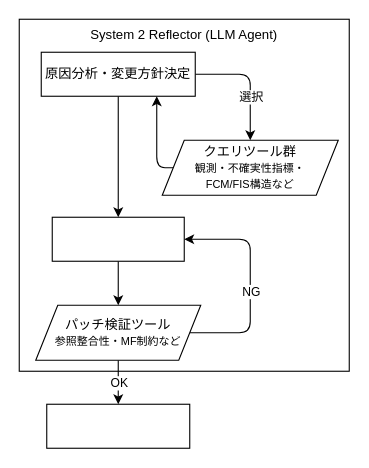
This 369x468 diagram has some shape labels left out. Each missing label, with the box of its shape:
JSON パッチ生成: (51, 216, 184, 261)
ステップ境界で適用: (46, 403, 190, 448)
